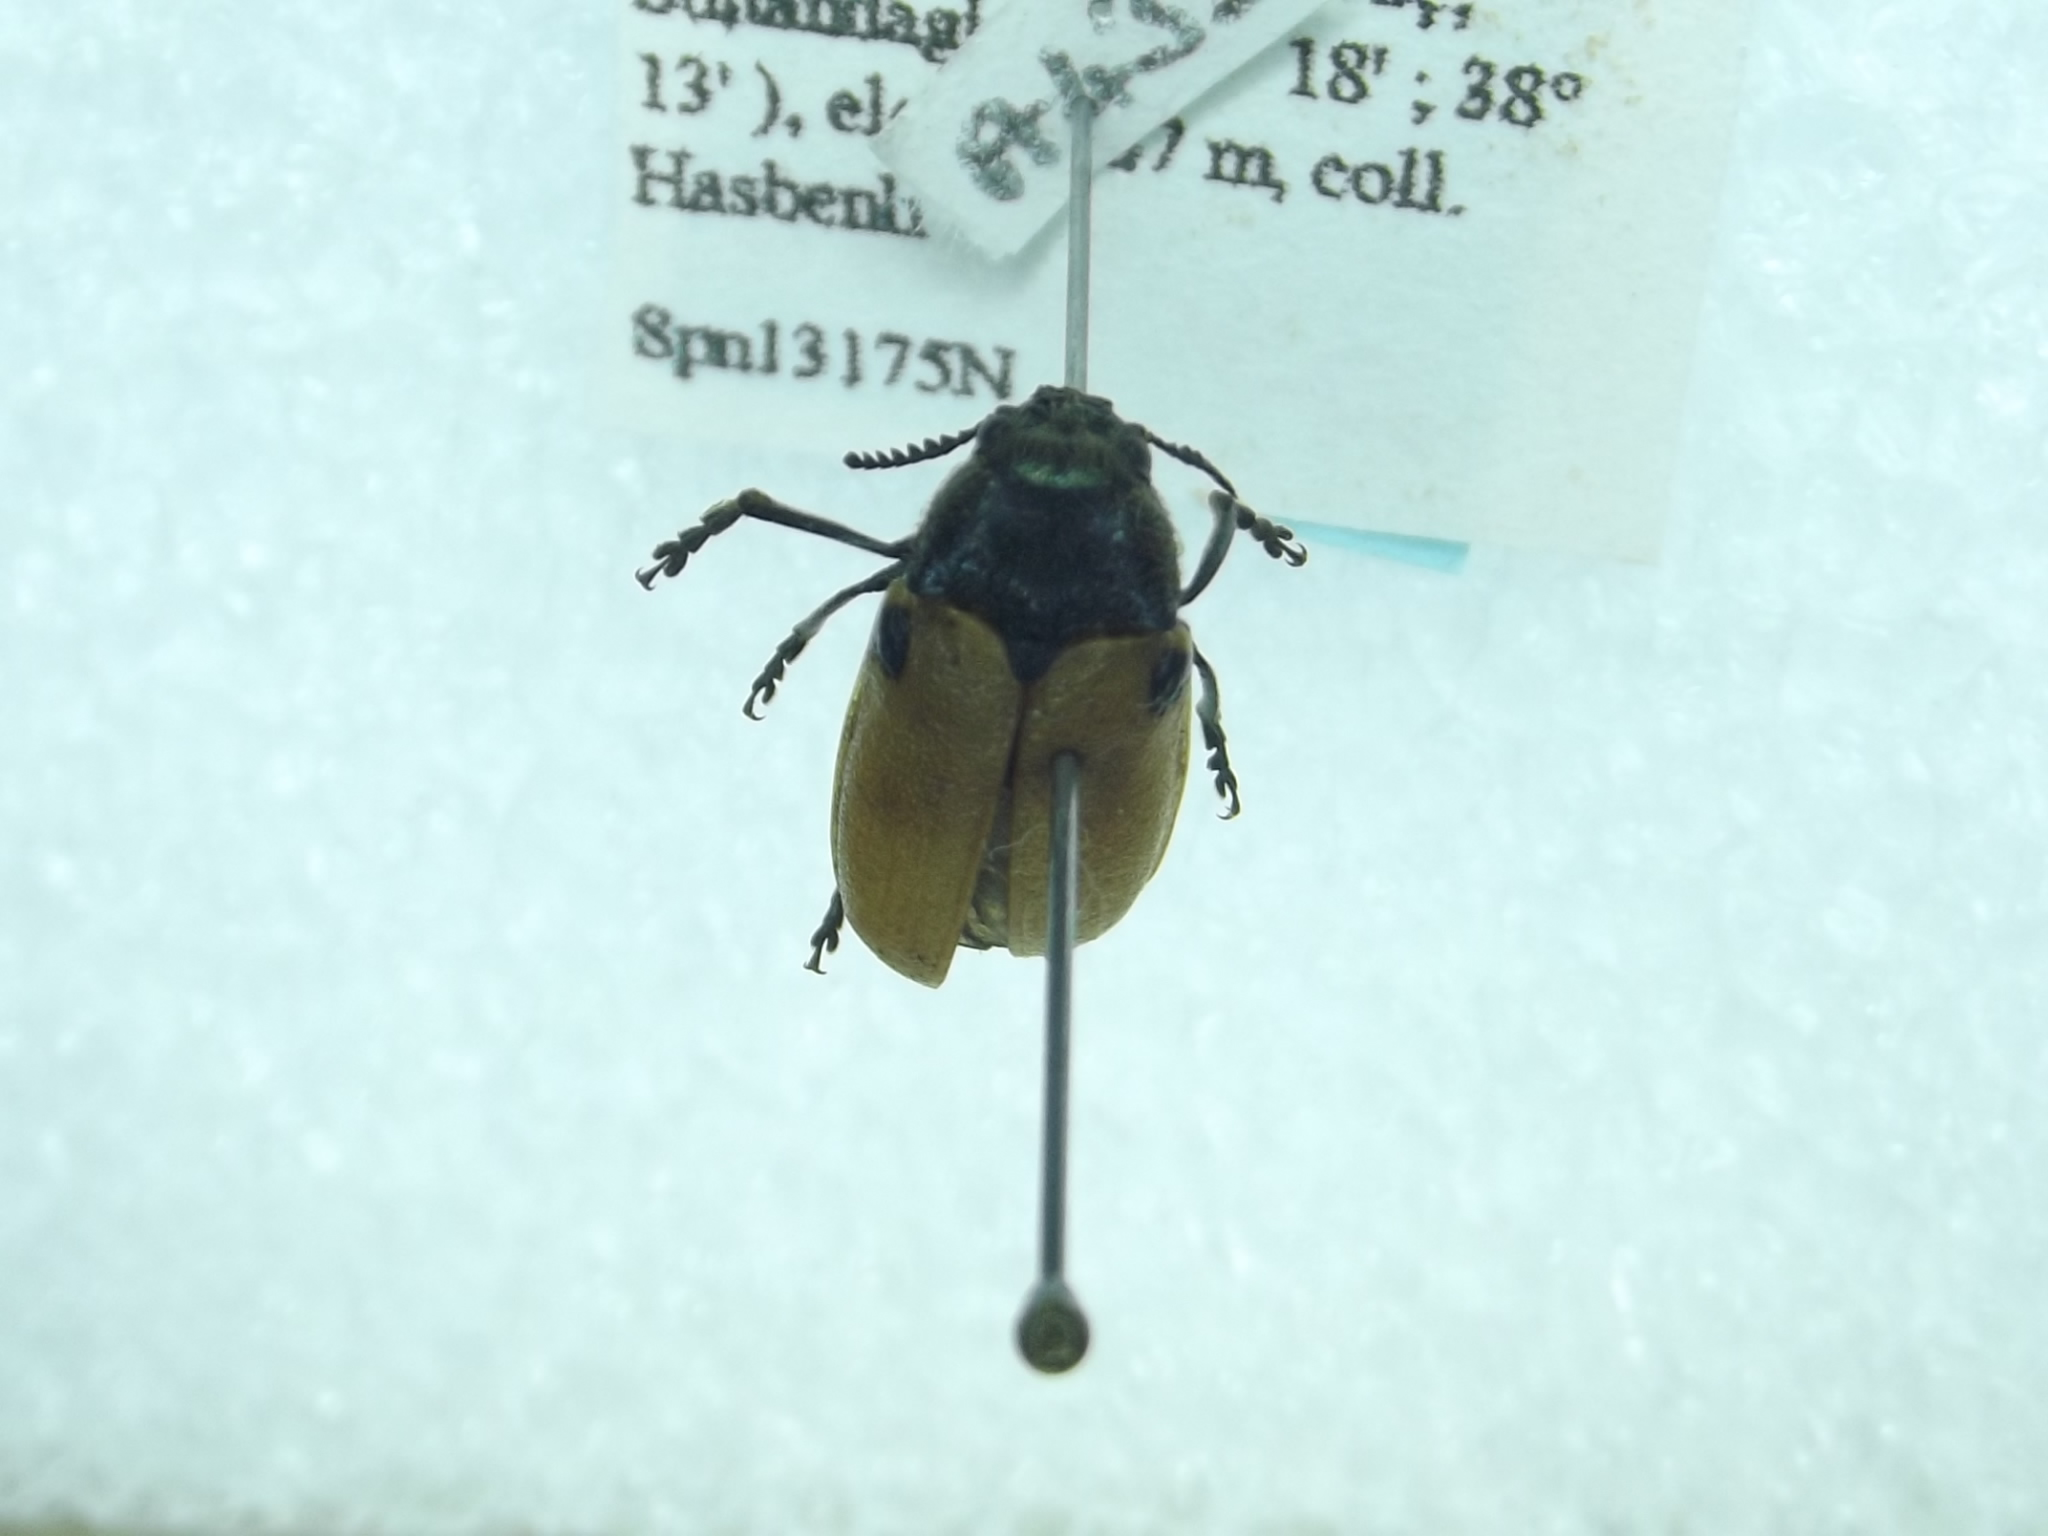Labidostomis_asiatica: (634, 365, 1322, 983)
